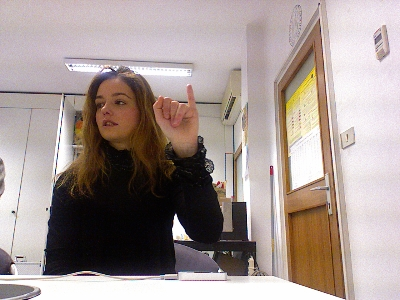小指: (152, 82, 200, 145)
